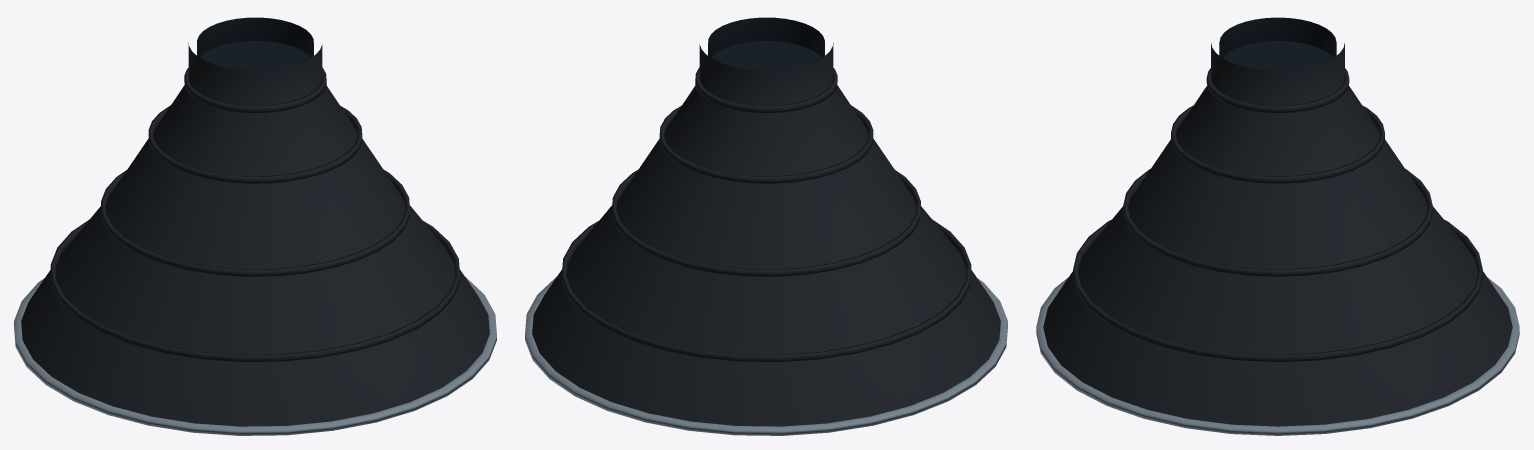
Rendered from atlas_v_srb_04.nozzle.glb.
The picture shows the model from 3 angles, left to right: view 1: azimuth 30°, elevation 25°; view 2: azimuth 150°, elevation 25°; view 3: azimuth 270°, elevation 25°; orthographic projection.
Parts seen in each view (by area): view 1: atlas_v_srb_04.nozzle.bell.mesh_Carbon_composite, atlas_v_srb_04.nozzle.bell.mesh_Machined_steel, atlas_v_srb_04.nozzle.bell.mesh_Shadowed_interior; view 2: atlas_v_srb_04.nozzle.bell.mesh_Carbon_composite, atlas_v_srb_04.nozzle.bell.mesh_Machined_steel, atlas_v_srb_04.nozzle.bell.mesh_Shadowed_interior; view 3: atlas_v_srb_04.nozzle.bell.mesh_Carbon_composite, atlas_v_srb_04.nozzle.bell.mesh_Machined_steel, atlas_v_srb_04.nozzle.bell.mesh_Shadowed_interior.
Boxes of the visible parts, x1,y1,x2,y2 form: atlas_v_srb_04.nozzle.bell.mesh_Carbon_composite: [21, 42, 489, 426]; atlas_v_srb_04.nozzle.bell.mesh_Machined_steel: [14, 276, 496, 435]; atlas_v_srb_04.nozzle.bell.mesh_Shadowed_interior: [197, 17, 313, 70]; atlas_v_srb_04.nozzle.bell.mesh_Carbon_composite: [532, 42, 1000, 426]; atlas_v_srb_04.nozzle.bell.mesh_Machined_steel: [525, 276, 1007, 435]; atlas_v_srb_04.nozzle.bell.mesh_Shadowed_interior: [708, 17, 824, 70]; atlas_v_srb_04.nozzle.bell.mesh_Carbon_composite: [1043, 43, 1512, 426]; atlas_v_srb_04.nozzle.bell.mesh_Machined_steel: [1036, 277, 1519, 435]; atlas_v_srb_04.nozzle.bell.mesh_Shadowed_interior: [1219, 17, 1336, 70].
Bounding box in the file's own units: 1.01 × 0.67 × 1.01.
